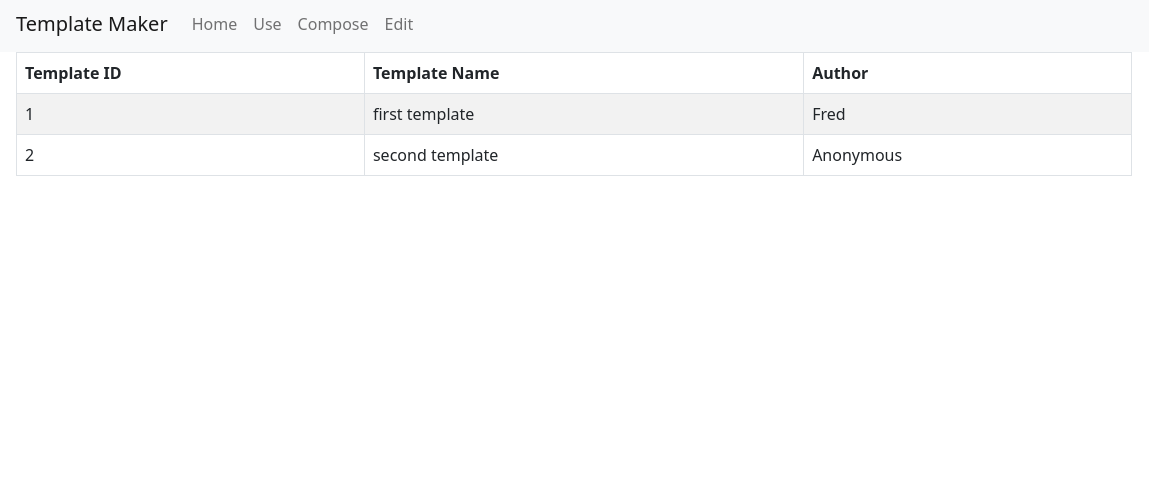
Isoloated template table - edit › clicking on template opens that template for editing
This screenshot has width=1149, height=495.
Step 1. Click the row "1 first template Fred" → (575, 115), box [17,94,1132,135]
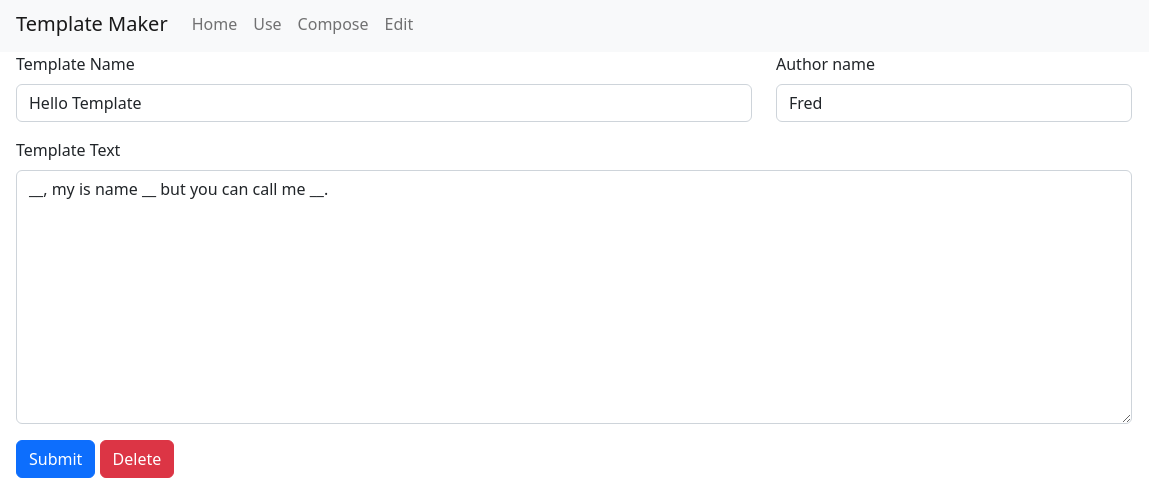
Expected: the field labelled "Template Name" holds "Hello Template", [16,84,752,122]
Expected: the field labelled "Author name" holds "Fred", [776,84,1132,122]
Expected: the text box "__, my is name __ but you can call me __." is shown, [16,170,1132,424]
